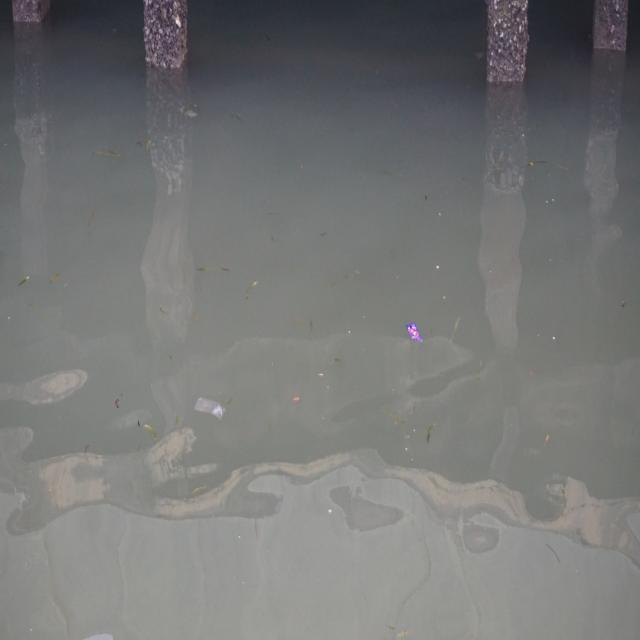Bungkus Makanan: (406, 322, 425, 347)
Kantong Plastik: (194, 395, 227, 424)
